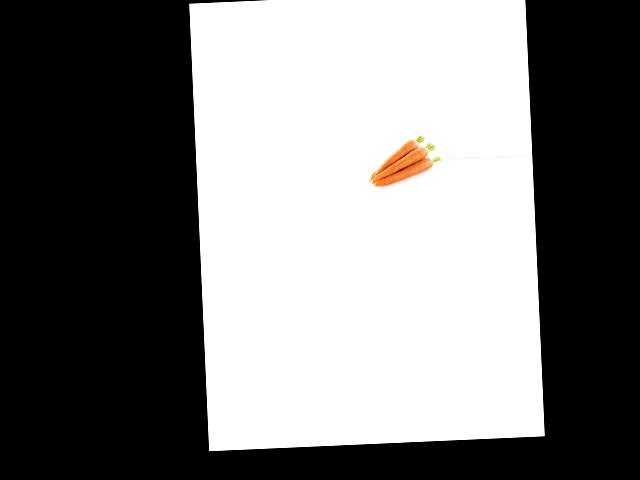carrot: (374, 156, 432, 185)
